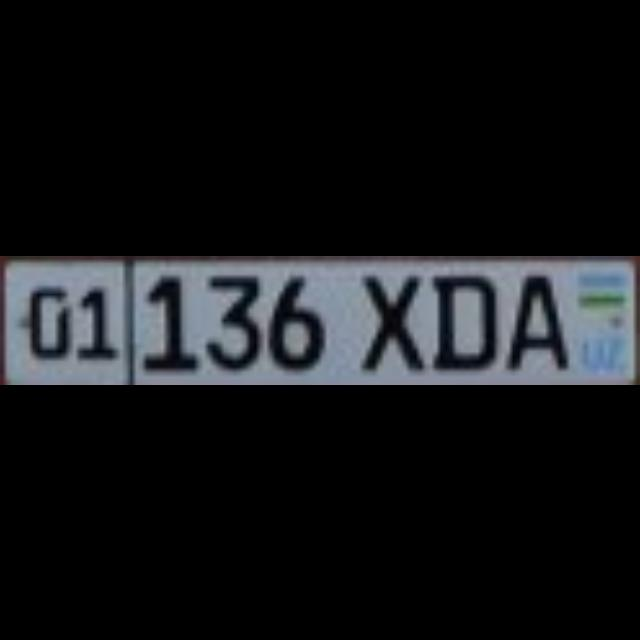0: (20, 281, 61, 353)
1: (134, 265, 192, 363), (68, 281, 109, 353)
3: (196, 266, 254, 368)
6: (258, 271, 314, 369)
A: (501, 265, 563, 363)
D: (424, 265, 491, 363)
X: (356, 271, 418, 369)
